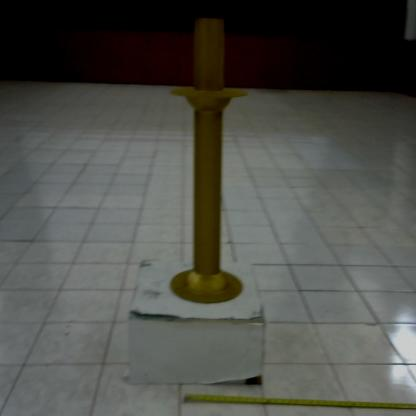pole: (161, 12, 250, 310)
